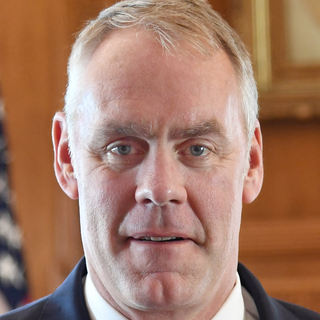eye: (164, 132, 220, 169), (95, 134, 147, 164)
